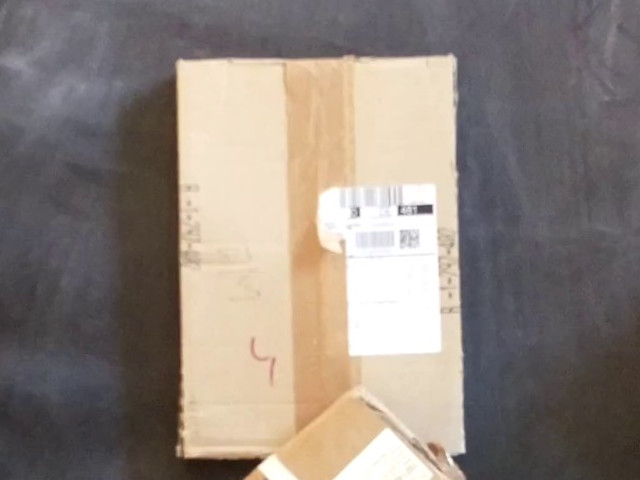cardboard: (175, 55, 461, 458)
